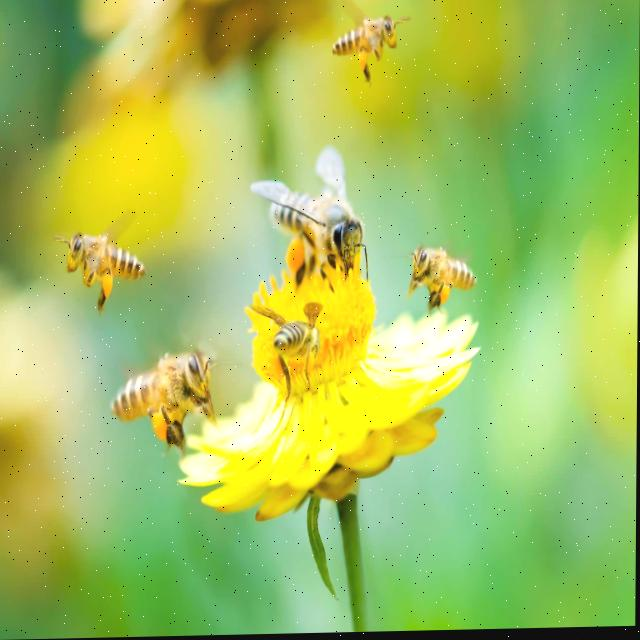Apis-mellifera-scutellata: (237, 144, 380, 299), (103, 343, 230, 455), (45, 207, 153, 324), (256, 292, 334, 401), (401, 224, 483, 322), (333, 6, 409, 85)
